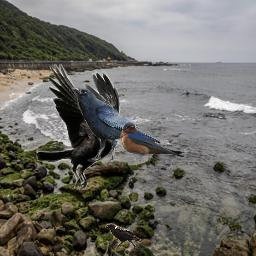Crow: (36, 64, 121, 193), (71, 87, 160, 162), (105, 223, 142, 249)
Swallow: (120, 122, 192, 159)
